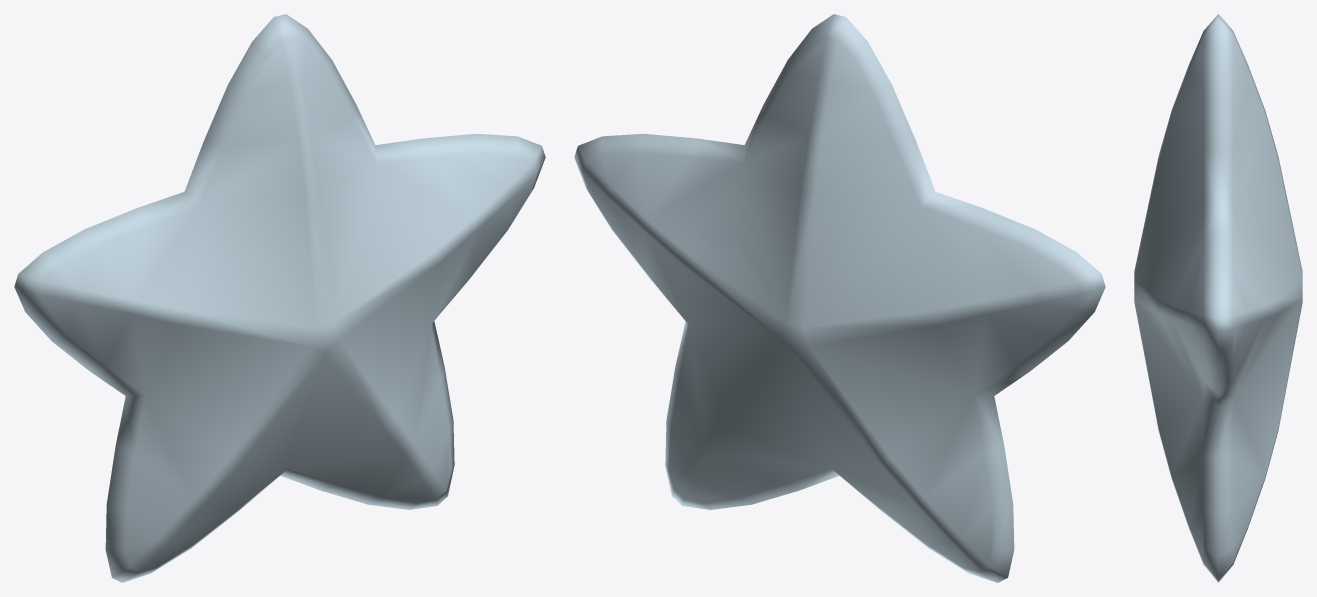
3 views of the same model, side by side, from view 1: azimuth 30°, elevation 25°; view 2: azimuth 150°, elevation 25°; view 3: azimuth 270°, elevation 25° (orthographic). The views are drawn at different scales.
Visible parts, largest first — view 1: model_1.148; view 2: model_1.148; view 3: model_1.148.
Boxes of the visible parts, <box> form: model_1.148: <box>14,14,545,582</box>; model_1.148: <box>574,14,1105,582</box>; model_1.148: <box>1134,14,1302,582</box>.
Bounding box in the file's own units: 4.48 × 4.26 × 1.32.
